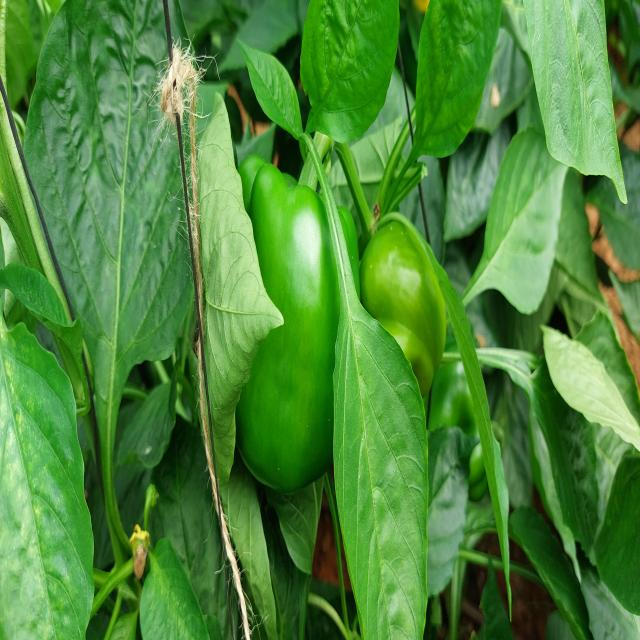Green--Not-ready-to-harvest: (228, 129, 362, 487), (370, 210, 449, 424)
